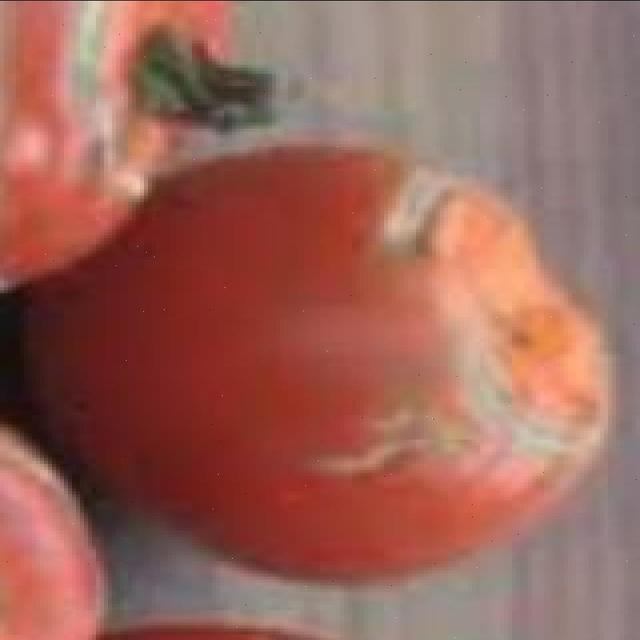Cracking Fruit: (45, 36, 358, 289)
